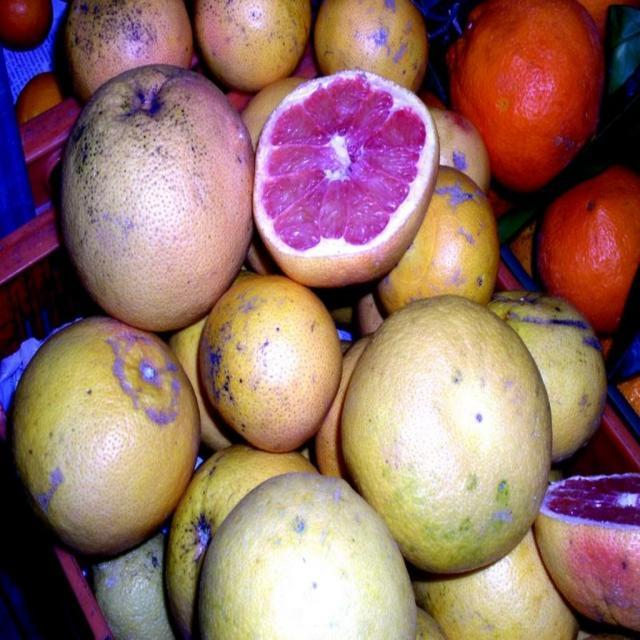Orange: (452, 4, 612, 191)
